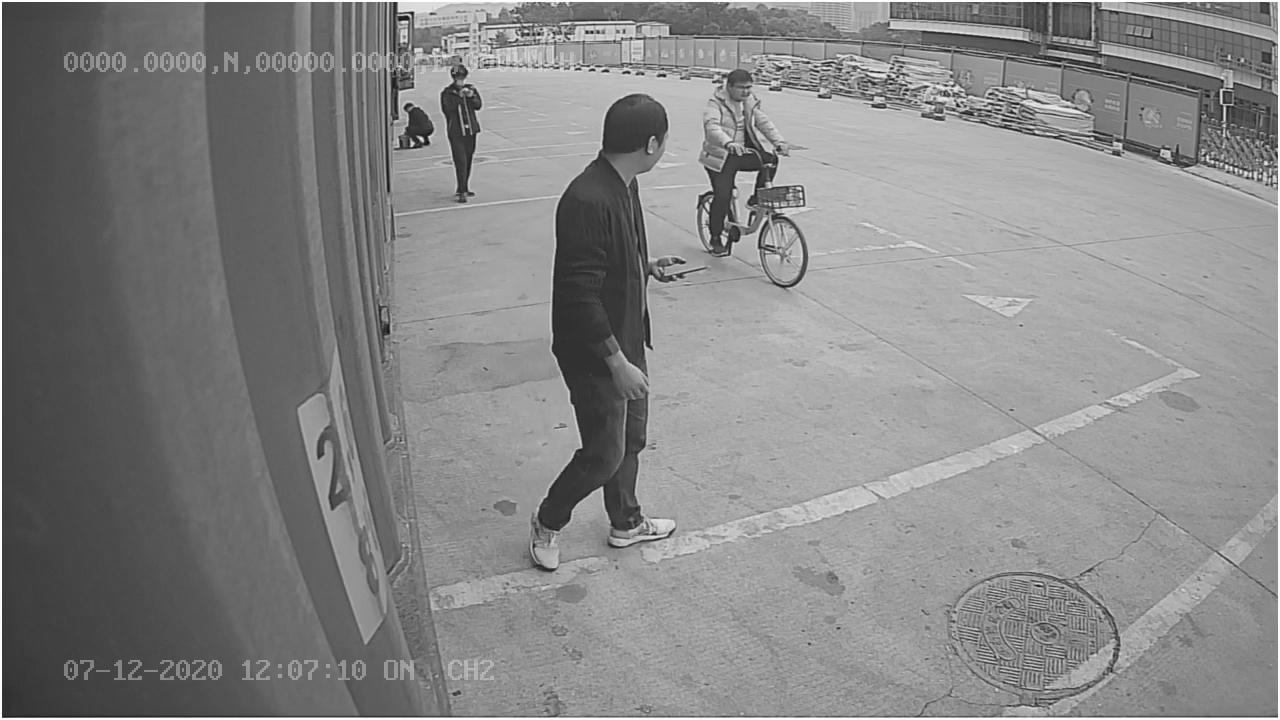person: (525, 90, 686, 573)
